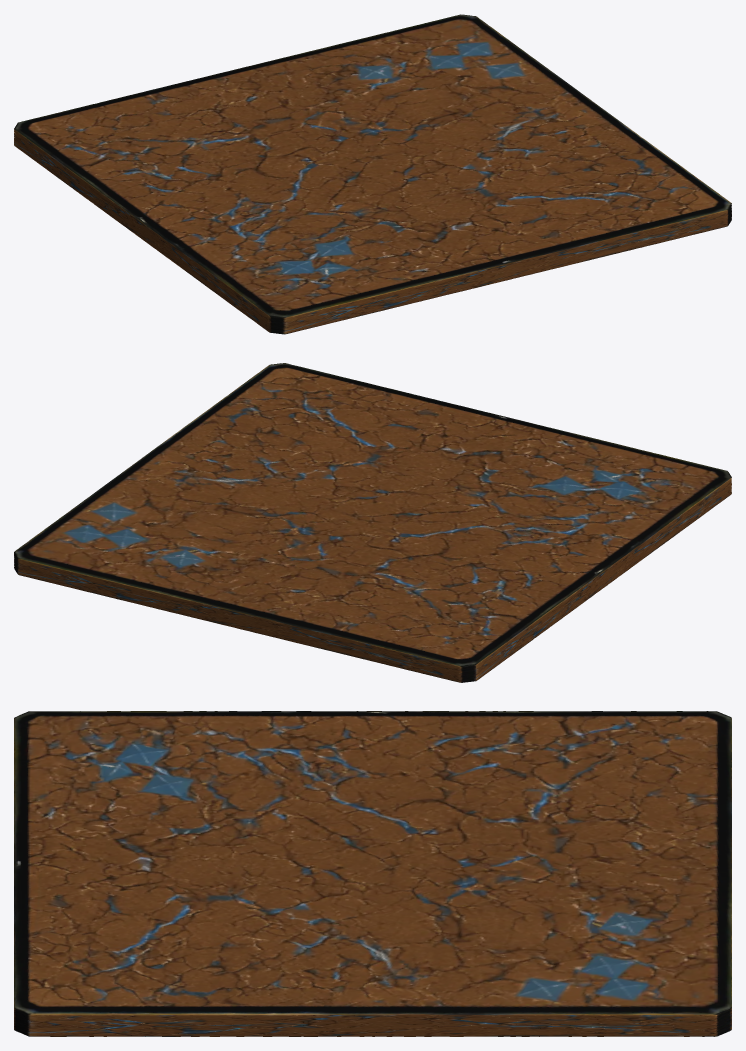
The model's file is MartianFloor_CrystalDust_A_UnrealReady.glb.
3 renders of one model, top to bottom at view 1: azimuth 30°, elevation 25°; view 2: azimuth 150°, elevation 25°; view 3: azimuth 270°, elevation 25°, orthographic. The views are drawn at different scales.
Parts seen in each view (by area): view 1: MartianFloor_CrystalDust_A_UnrealReady; view 2: MartianFloor_CrystalDust_A_UnrealReady; view 3: MartianFloor_CrystalDust_A_UnrealReady.
Part boxes in pixels (bbox=[...]): MartianFloor_CrystalDust_A_UnrealReady: bbox=[14, 14, 731, 334]; MartianFloor_CrystalDust_A_UnrealReady: bbox=[14, 363, 731, 682]; MartianFloor_CrystalDust_A_UnrealReady: bbox=[14, 711, 731, 1036].
Size of the model in its own units: 6 by 0.24 by 6.
Materials: 1 (1 with a texture image).
